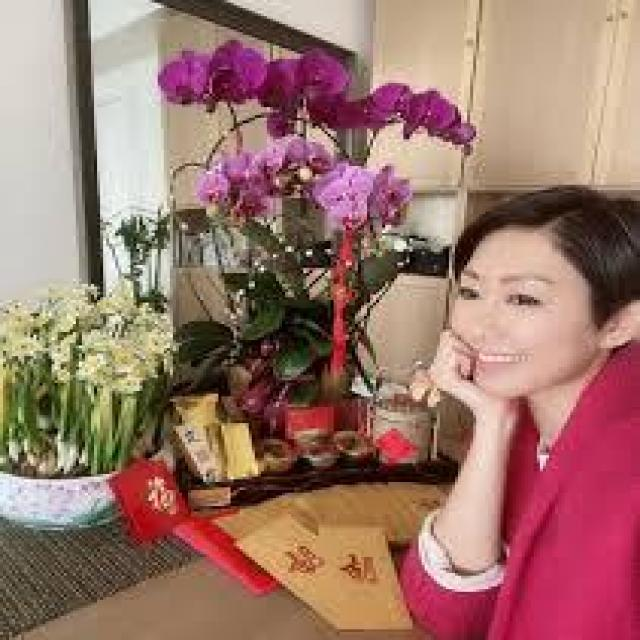organic waste: (9, 280, 188, 414), (366, 80, 474, 148), (268, 46, 354, 115), (190, 160, 274, 227), (202, 35, 272, 110), (252, 134, 346, 182), (147, 44, 211, 111), (348, 166, 418, 217), (319, 170, 376, 224)
